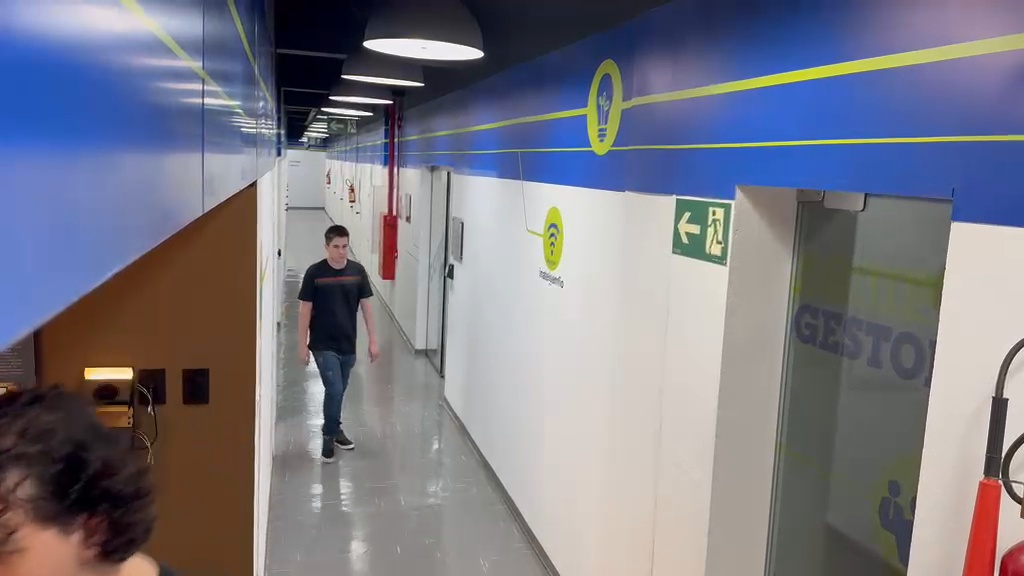person: (0, 386, 164, 573), (296, 224, 378, 459)
